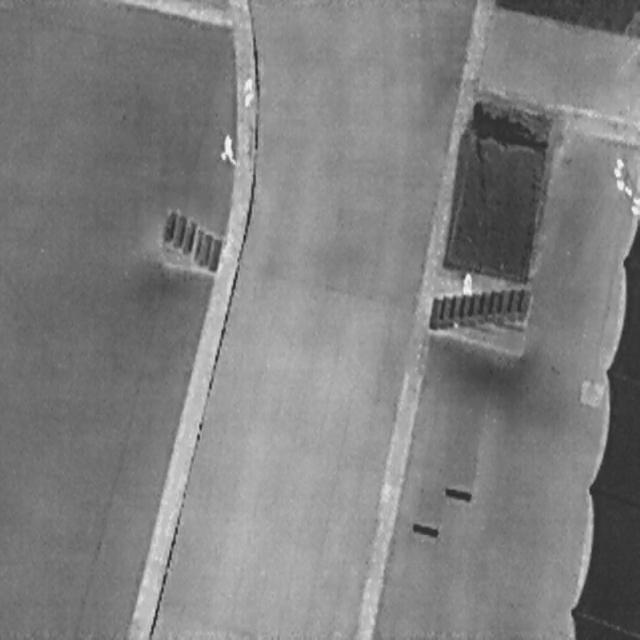Person: (219, 132, 237, 168), (242, 76, 255, 106), (462, 270, 472, 296)
